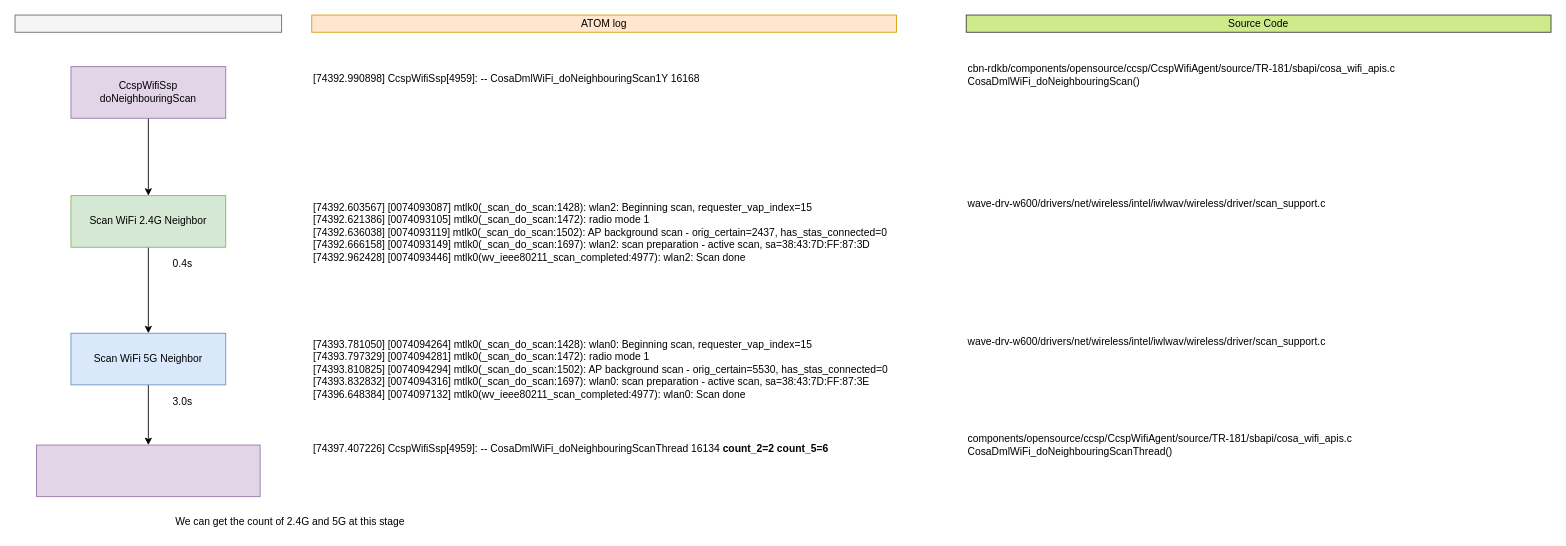
This 1566x546 diagram has some shape labels left out. Each missing label, with the centre of its shape:
Call Flow: [148,23]
CcspWifiSsp CosaDmlWiFi_doNeighbouringScanThread: [148,470]
